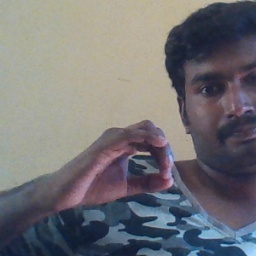O: (61, 120, 179, 207)
